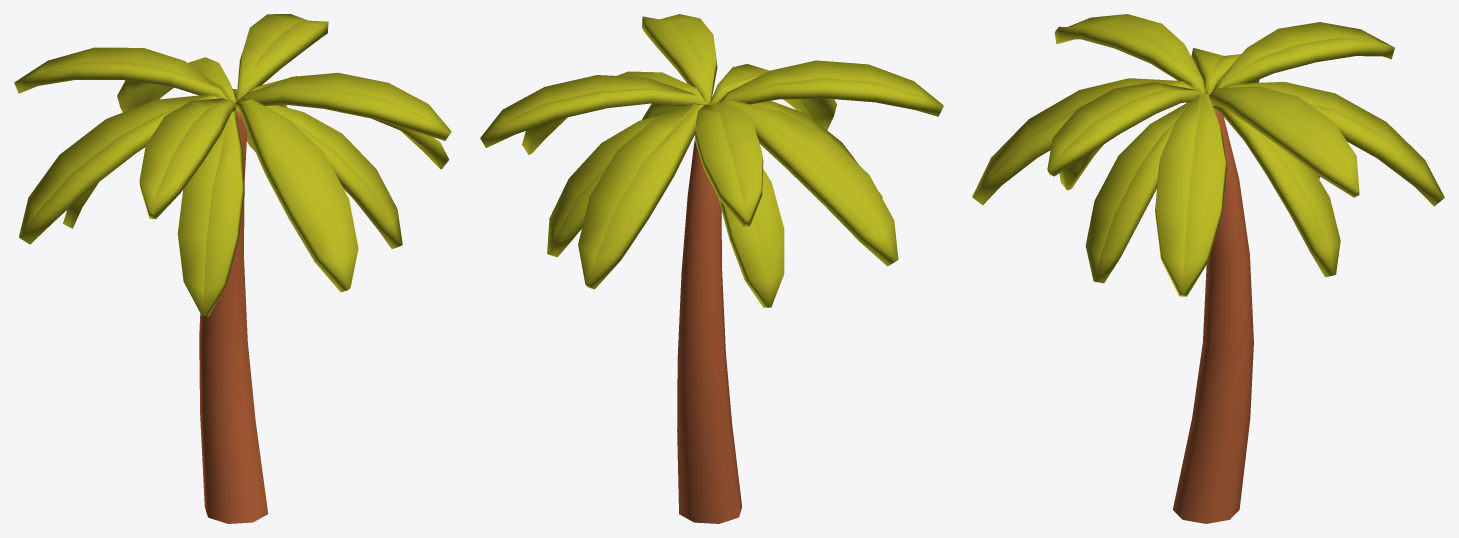
Rendered from palm_m.glb.
The picture shows the model from 3 angles, left to right: view 1: azimuth 30°, elevation 25°; view 2: azimuth 150°, elevation 25°; view 3: azimuth 270°, elevation 25°; orthographic projection. The views are drawn at different scales.
Visible parts, largest first — view 1: palm_m; view 2: palm_m; view 3: palm_m.
Part boxes in pixels (<box>): palm_m: <box>14,14,451,523</box>; palm_m: <box>480,14,943,523</box>; palm_m: <box>972,14,1444,523</box>.
Bounding box in the file's own units: 3.55 × 3.68 × 3.54.
Materials: 1 (1 with a texture image).
